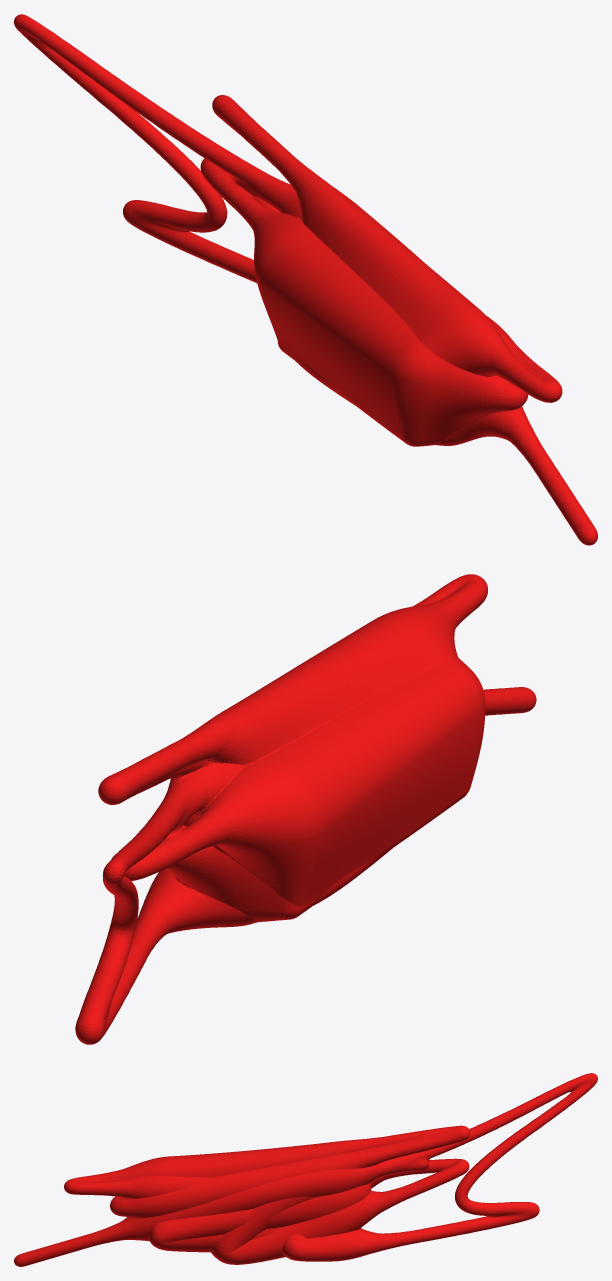
Rendered from eyebrow.obj.
The picture shows the model from 3 angles, top to bottom: view 1: azimuth 30°, elevation 25°; view 2: azimuth 150°, elevation 25°; view 3: azimuth 270°, elevation 25°; orthographic projection. The views are drawn at different scales.
Parts seen in each view (by area): view 1: model_2; view 2: model_2; view 3: model_2.
Boxes of the visible parts, x1,y1,x2,y2 form: model_2: [14, 14, 597, 545]; model_2: [75, 574, 536, 1044]; model_2: [14, 1073, 597, 1266].
Size of the model in its own units: 196 by 252 by 869.
Materials: 1 (1 with a texture image).
